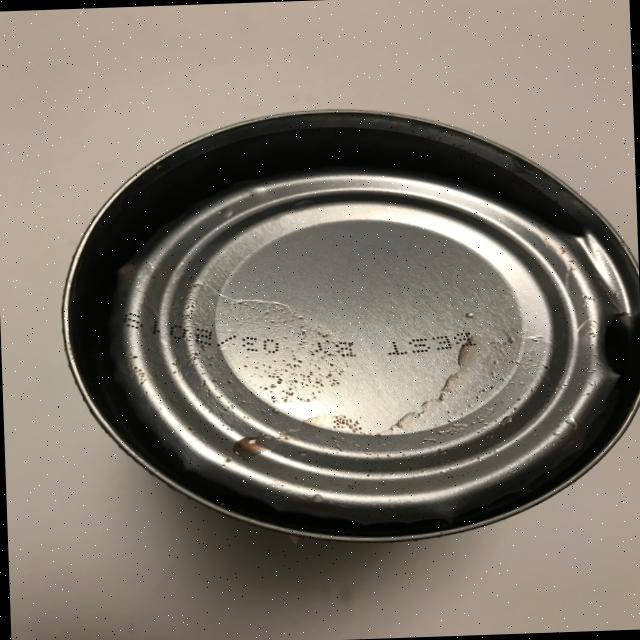metal: (54, 97, 640, 553)
